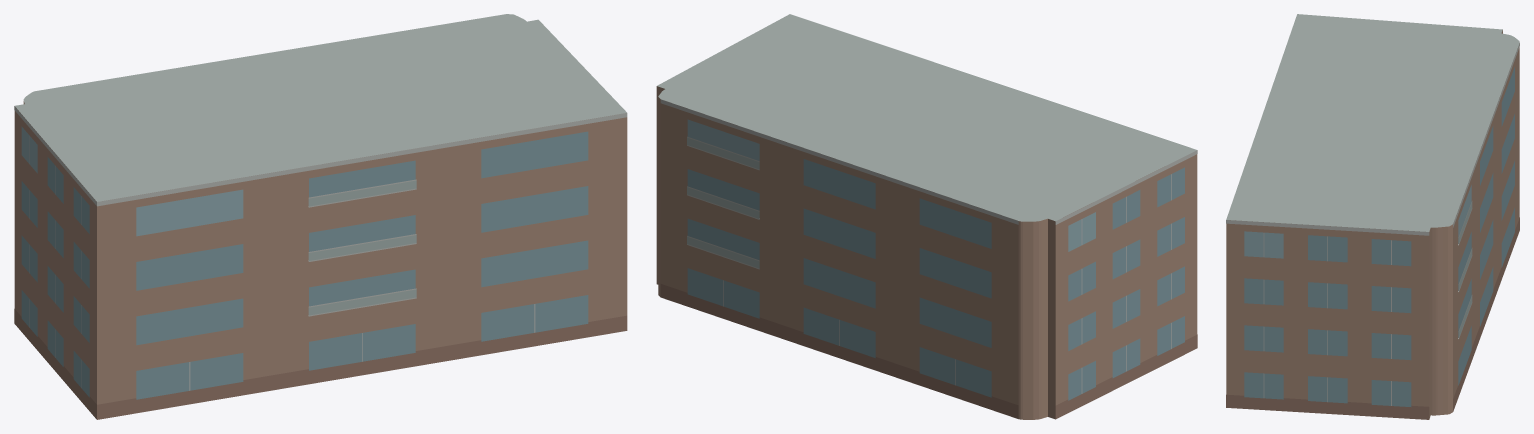
The model's file is survey-upis-32516014.glb.
The picture shows the model from 3 angles, left to right: view 1: azimuth 30°, elevation 25°; view 2: azimuth 150°, elevation 25°; view 3: azimuth 270°, elevation 25°; orthographic projection. The views are drawn at different scales.
Visible parts, largest first — view 1: survey-upis-32516014.tmp; view 2: survey-upis-32516014.tmp; view 3: survey-upis-32516014.tmp.
Boxes of the visible parts, x1,y1,x2,y2 form: survey-upis-32516014.tmp: (14,14,627,419); survey-upis-32516014.tmp: (656,14,1197,419); survey-upis-32516014.tmp: (1226,14,1519,419).
Bounding box in the file's own units: 30.37 × 12.2 × 17.29.
